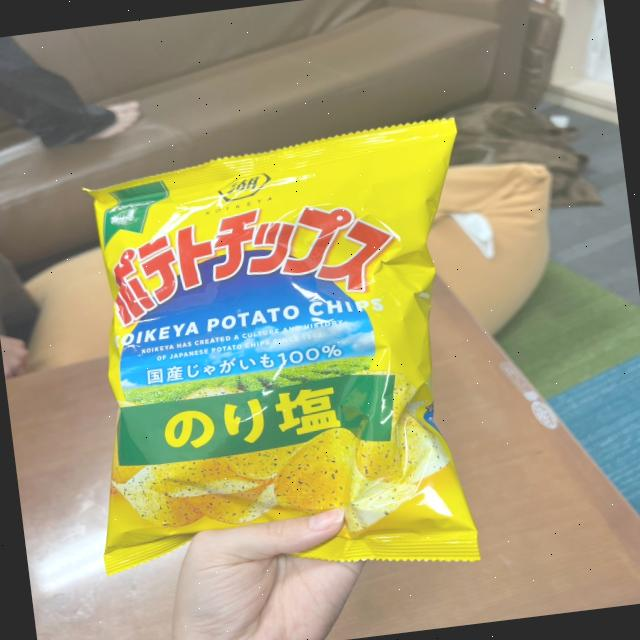chips-nori: (38, 122, 515, 584)
